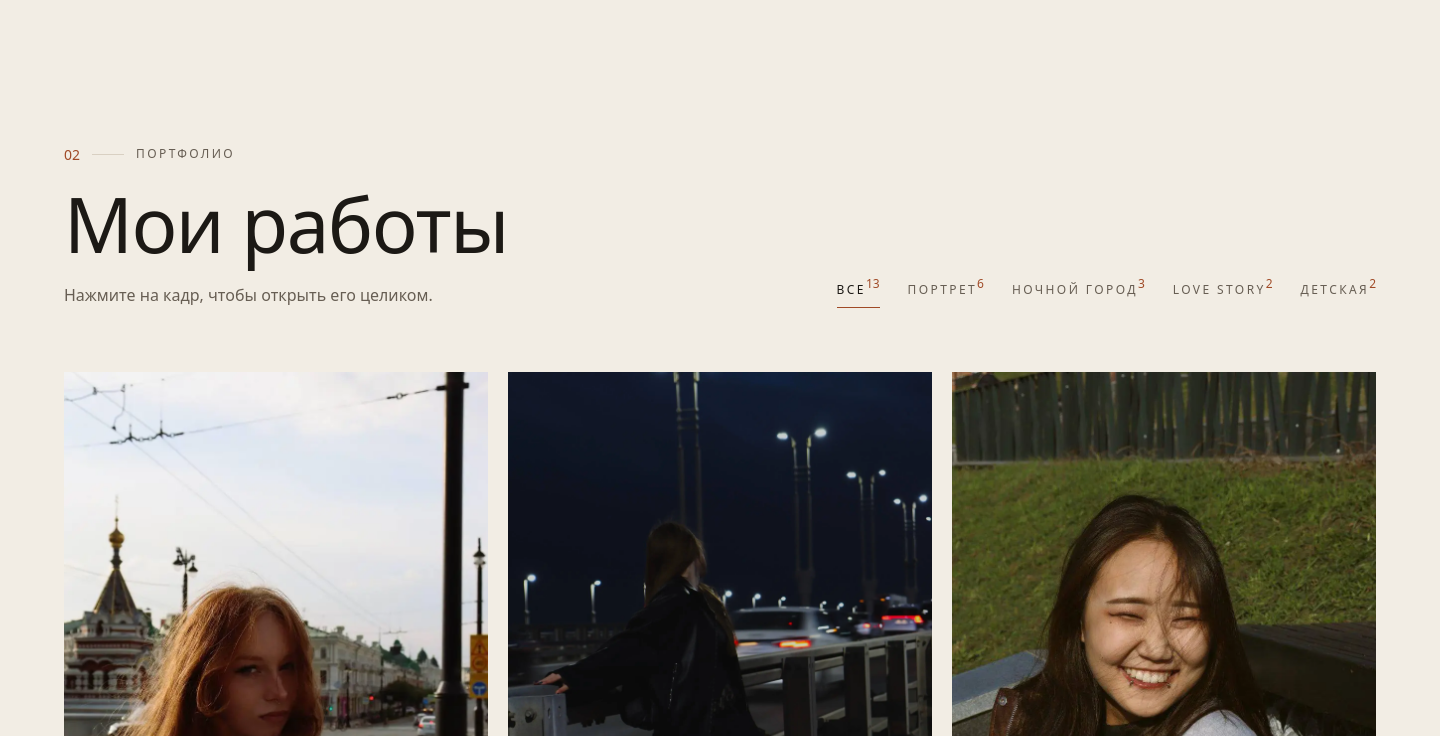
Test: PortfolioSection › CTA — «следующий кадр»: номер на единицу больше числа работ во вкладке
This screenshot has width=1440, height=736.
Click the tab "Love story 2".
click(1223, 291)  # box x1=1173 y1=274 x2=1273 y2=308
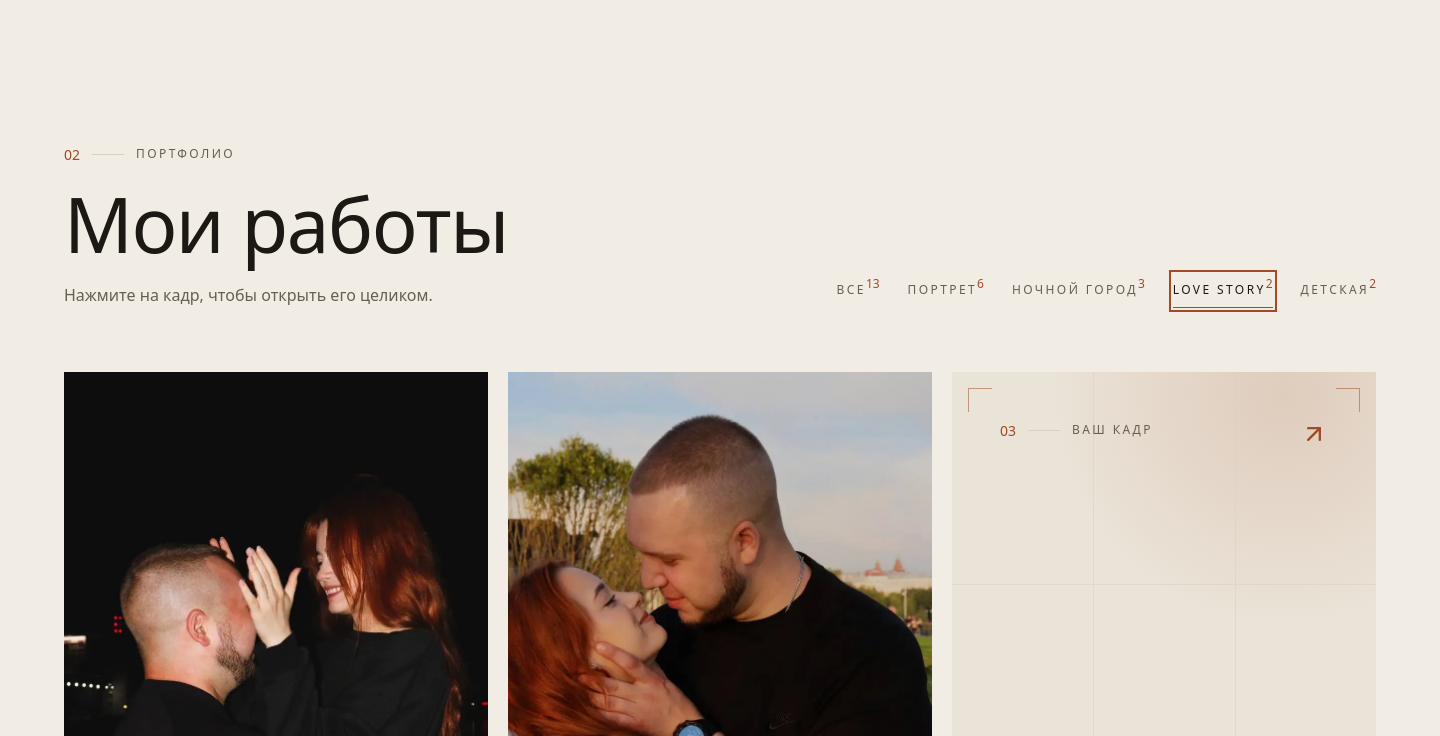
Expected: the text "03" is shown, x1=1000 y1=420 x2=1016 y2=441
